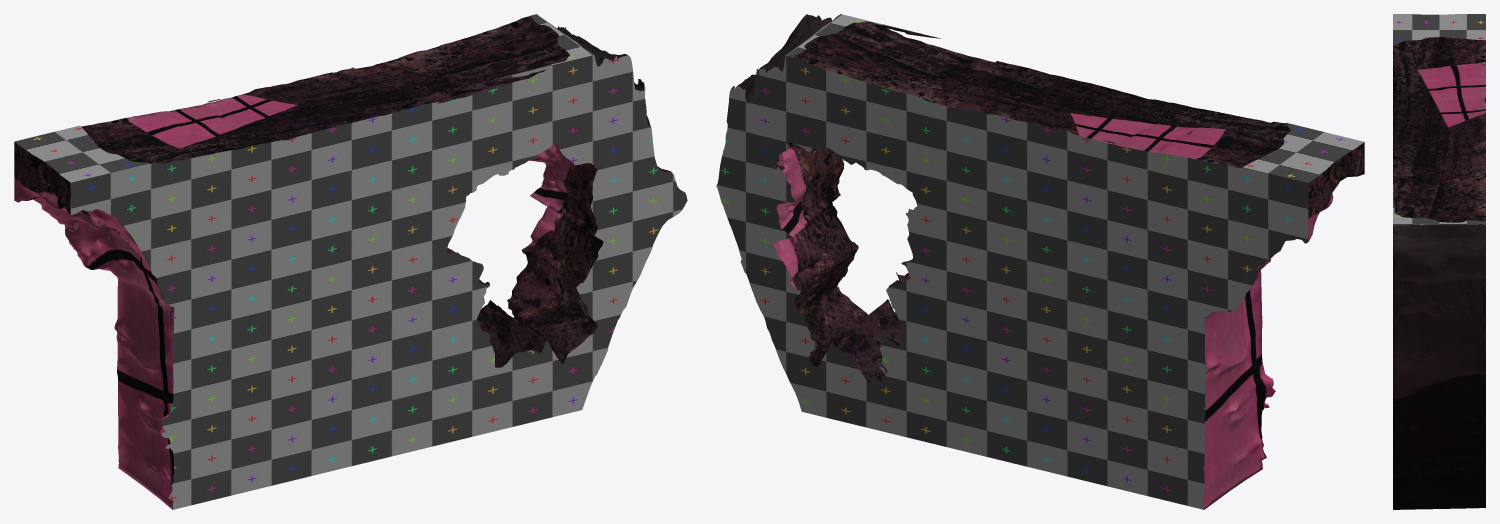
File: wall07.glb
The picture shows the model from 3 angles, left to right: view 1: azimuth 30°, elevation 25°; view 2: azimuth 150°, elevation 25°; view 3: azimuth 270°, elevation 25°; orthographic projection. The views are drawn at different scales.
Parts seen in each view (by area): view 1: Wall.007; view 2: Wall.007; view 3: Wall.007.
Part boxes in pixels (<box>): Wall.007: <box>14,14,687,509</box>; Wall.007: <box>716,14,1364,509</box>; Wall.007: <box>1393,14,1485,509</box>.
Size of the model in its own units: 2.96 by 1.61 by 0.468.
2 materials, 2 textured.
